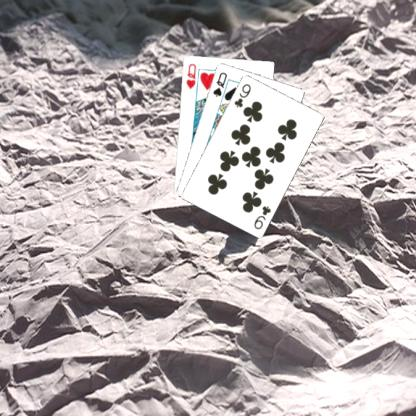9C: (251, 203, 272, 231), (232, 80, 252, 108)
QH: (183, 61, 197, 90)
QS: (210, 69, 228, 98)
